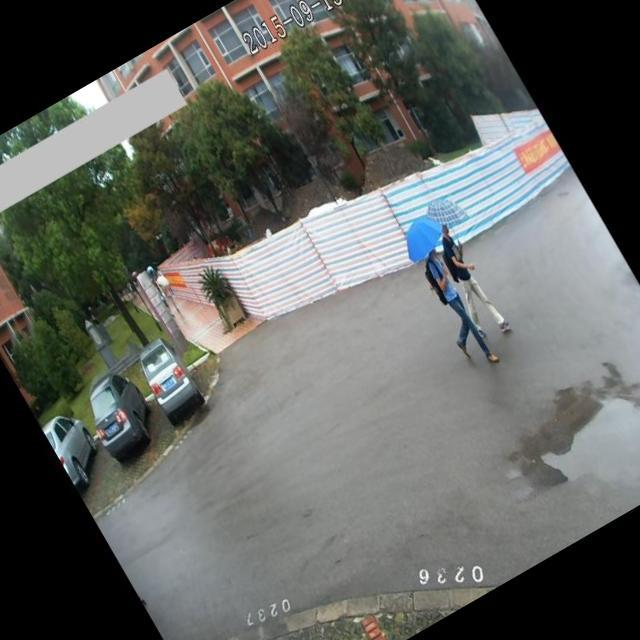person: (423, 218, 526, 364), (407, 241, 508, 383)
